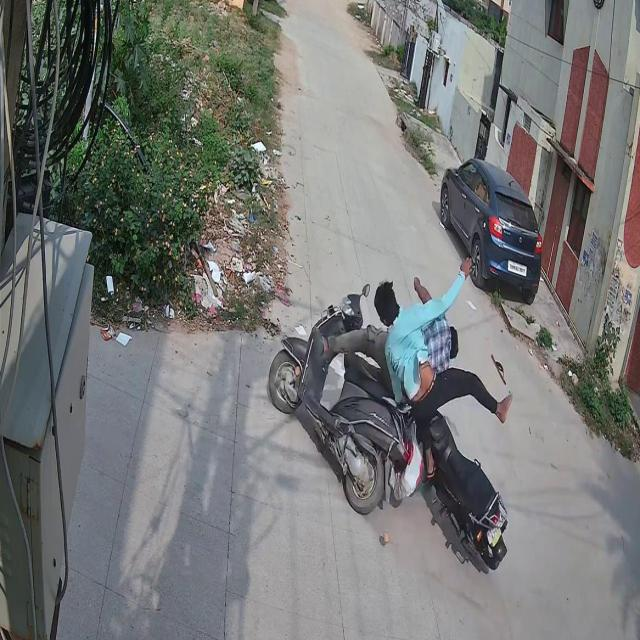accident: (261, 248, 517, 586)
